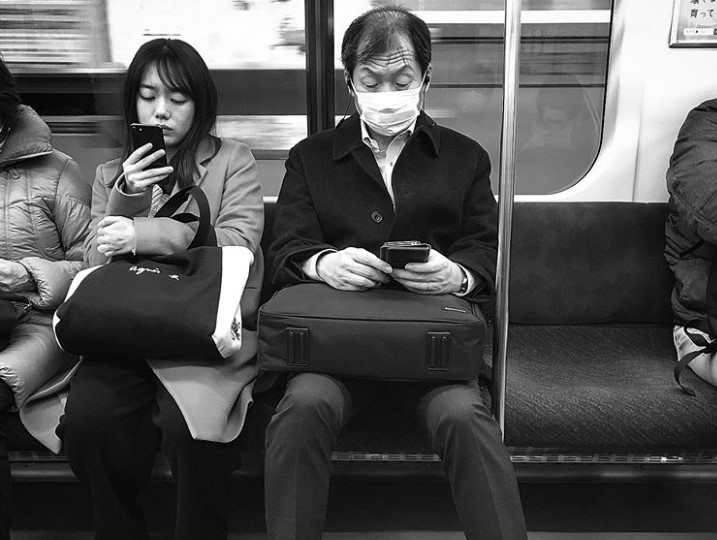face_no_mask: (124, 39, 210, 149)
face_with_mask: (341, 9, 434, 139)
